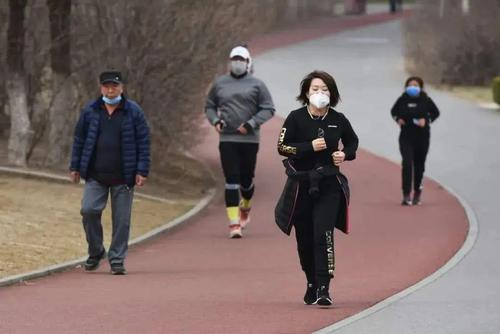mask: (310, 77, 330, 109)
